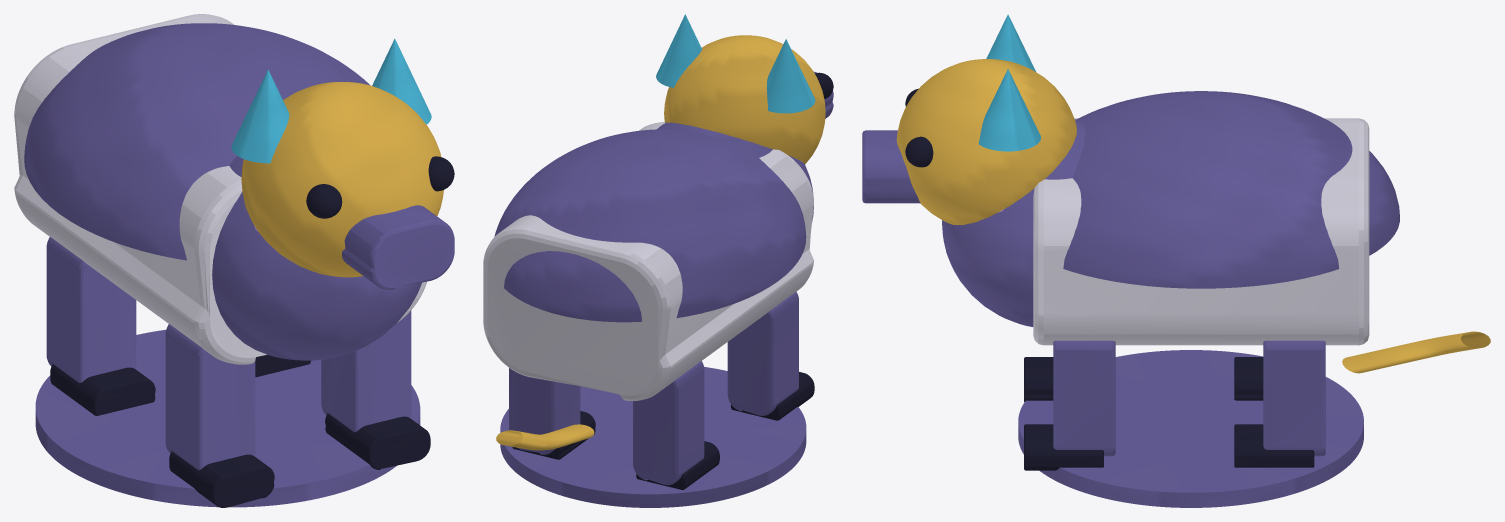
The model's file is 0306_古生代动物图鉴_丽齿兽.glb.
The picture shows the model from 3 angles, left to right: view 1: azimuth 30°, elevation 25°; view 2: azimuth 150°, elevation 25°; view 3: azimuth 270°, elevation 25°; orthographic projection. The views are drawn at different scales.
Parts seen in each view (by area): view 1: card_0306; view 2: card_0306; view 3: card_0306.
Part boxes in pixels (x1=…): card_0306: x1=14, y1=14, x2=454, y2=507; card_0306: x1=483, y1=14, x2=833, y2=507; card_0306: x1=862, y1=14, x2=1490, y2=507.
Size of the model in its own units: 0.775 by 1 by 1.44.
